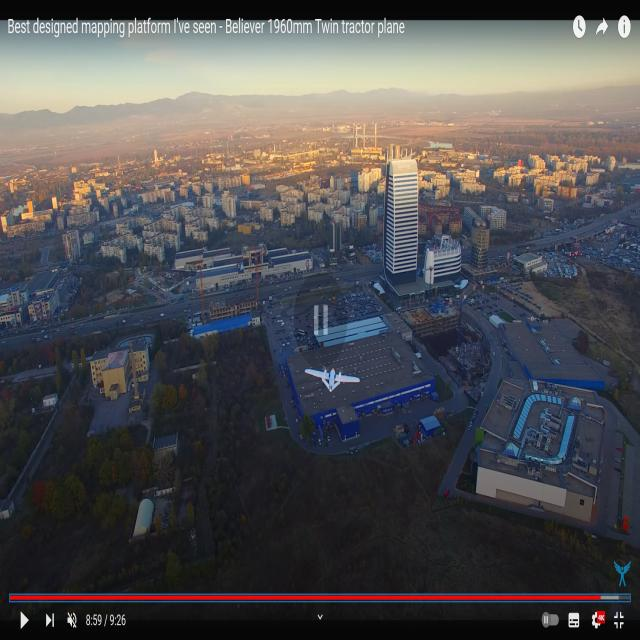iha: (306, 363, 360, 397)
